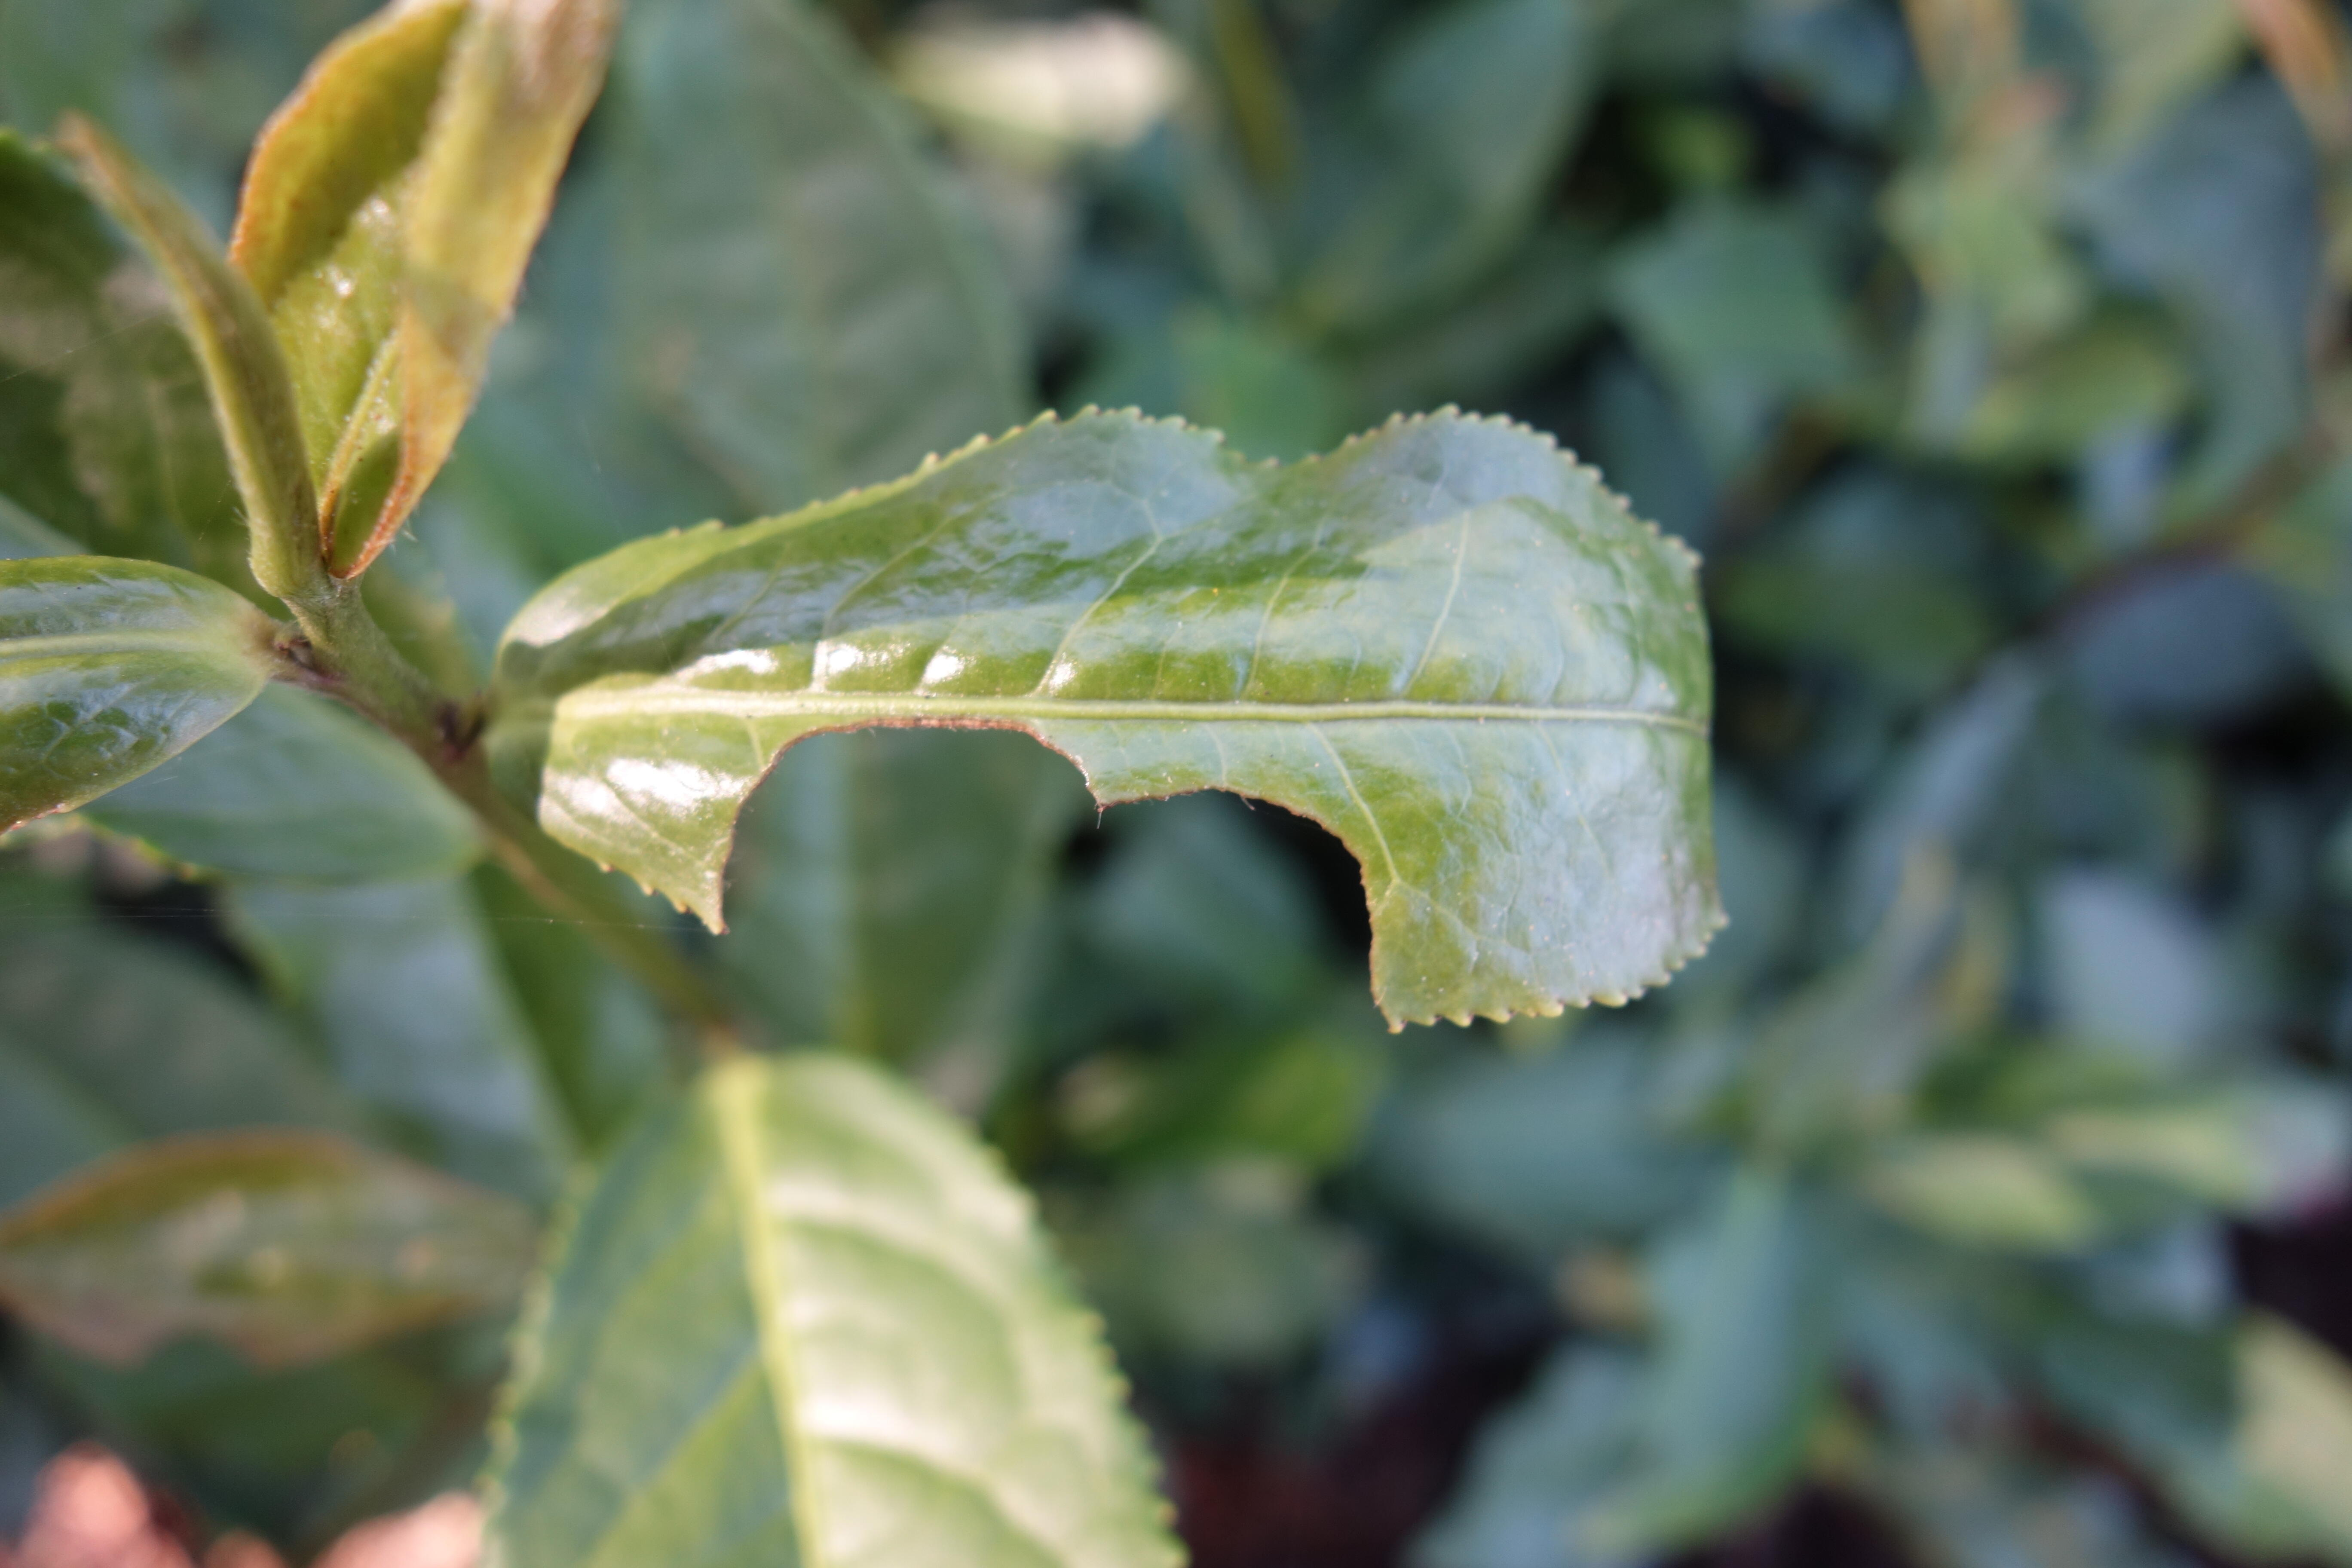chihuo_high: (469, 404, 1732, 1032)
tanju_low: (227, 2, 619, 577)
